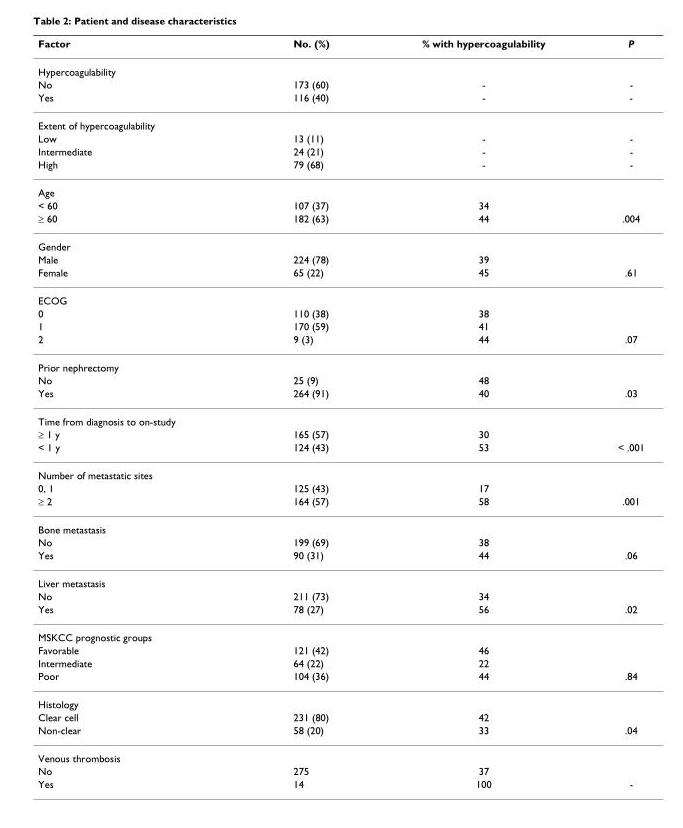table: (37, 36, 643, 789)
table column: (374, 36, 580, 789), (37, 36, 233, 789), (233, 36, 374, 789), (580, 36, 643, 789)
table column header: (37, 36, 643, 57)
table projected row header: (37, 177, 643, 198), (37, 231, 643, 252), (37, 285, 643, 306), (37, 352, 643, 373), (37, 460, 643, 481), (37, 514, 643, 535), (37, 568, 643, 589), (37, 622, 643, 643), (37, 689, 643, 710), (37, 743, 643, 764), (37, 57, 643, 77), (37, 111, 643, 131), (37, 406, 643, 426)
table row: (37, 36, 643, 57), (37, 90, 643, 111), (37, 177, 643, 198), (37, 210, 643, 231), (37, 231, 643, 252), (37, 285, 643, 306), (37, 352, 643, 373), (37, 460, 643, 481), (37, 493, 643, 514), (37, 514, 643, 535), (37, 568, 643, 589), (37, 622, 643, 643), (37, 689, 643, 710), (37, 743, 643, 764), (37, 57, 643, 77), (37, 111, 643, 131), (37, 157, 643, 177), (37, 265, 643, 285), (37, 332, 643, 352), (37, 386, 643, 406), (37, 406, 643, 426), (37, 440, 643, 460), (37, 548, 643, 568), (37, 602, 643, 622), (37, 669, 643, 689), (37, 723, 643, 743), (37, 426, 643, 440), (37, 77, 643, 90), (37, 131, 643, 144), (37, 144, 643, 157), (37, 252, 643, 265), (37, 306, 643, 319), (37, 319, 643, 332), (37, 373, 643, 386), (37, 535, 643, 548), (37, 589, 643, 602), (37, 643, 643, 656), (37, 656, 643, 669), (37, 710, 643, 723), (37, 764, 643, 777), (37, 198, 643, 210), (37, 481, 643, 493), (37, 777, 643, 789)
